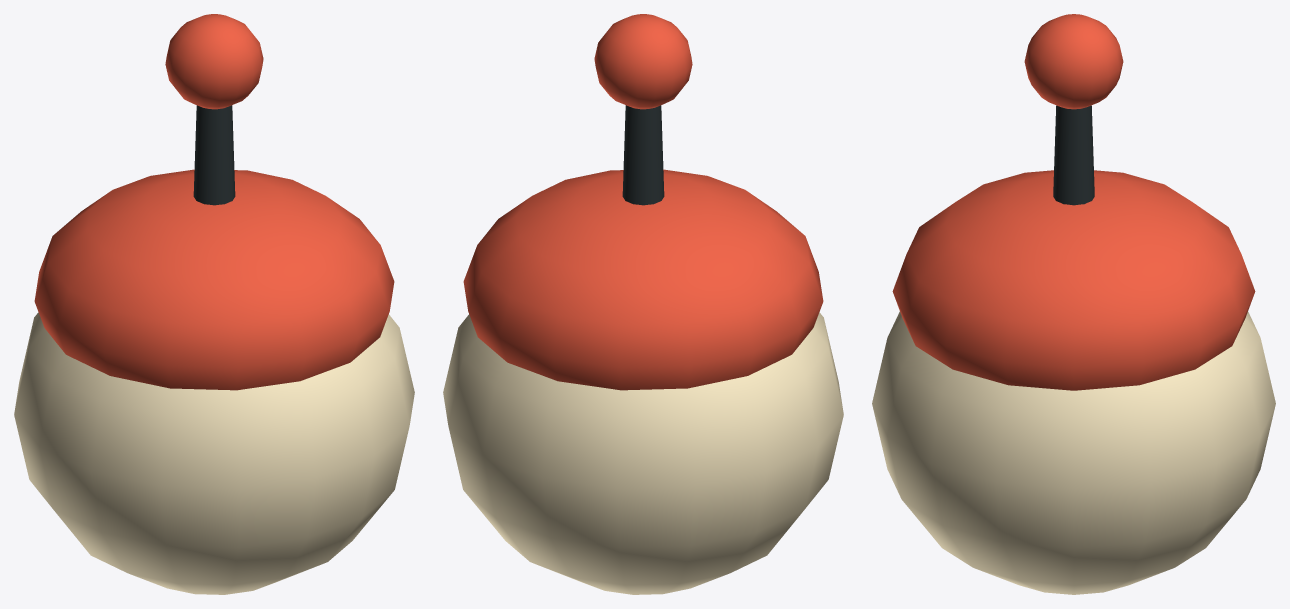
File: Float.fbx
3 views of the same model, side by side, from view 1: azimuth 30°, elevation 25°; view 2: azimuth 150°, elevation 25°; view 3: azimuth 270°, elevation 25° (orthographic).
Parts seen in each view (by area): view 1: Ivory hull, Coral cap, Coral sight tip, Black antenna; view 2: Ivory hull, Coral cap, Coral sight tip, Black antenna; view 3: Ivory hull, Coral cap, Coral sight tip, Black antenna.
Boxes of the visible parts, x1,y1,x2,y2 form: Ivory hull: (14, 312, 414, 594); Coral cap: (34, 169, 394, 390); Coral sight tip: (165, 14, 263, 109); Black antenna: (193, 105, 235, 205); Ivory hull: (443, 312, 843, 594); Coral cap: (463, 169, 823, 390); Coral sight tip: (594, 14, 692, 109); Black antenna: (622, 105, 664, 205); Ivory hull: (872, 311, 1275, 594); Coral cap: (892, 170, 1255, 390); Coral sight tip: (1024, 14, 1123, 109); Black antenna: (1053, 105, 1094, 205).
Bounding box in the file's own units: 0.196 × 0.298 × 0.196.
